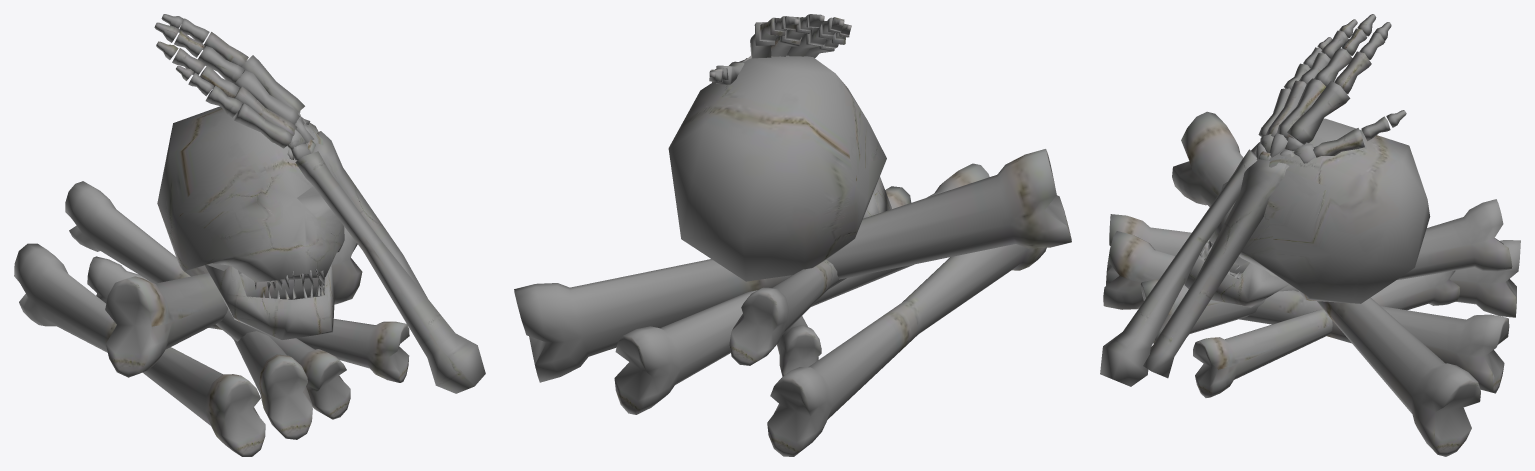
The model's file is Dungeon_BonePile_6.glb.
3 renders of one model, left to right at view 1: azimuth 30°, elevation 25°; view 2: azimuth 150°, elevation 25°; view 3: azimuth 270°, elevation 25°, orthographic. The views are drawn at different scales.
Parts seen in each view (by area): view 1: Dungeon_BonePile_6; view 2: Dungeon_BonePile_6; view 3: Dungeon_BonePile_6.
Boxes of the visible parts, bbox=[...] form: Dungeon_BonePile_6: bbox=[14, 14, 485, 456]; Dungeon_BonePile_6: bbox=[514, 14, 1071, 456]; Dungeon_BonePile_6: bbox=[1100, 14, 1520, 456].
Size of the model in its own units: 0.6275 by 0.5715 by 0.6398.
Materials: 1 (1 with a texture image).
